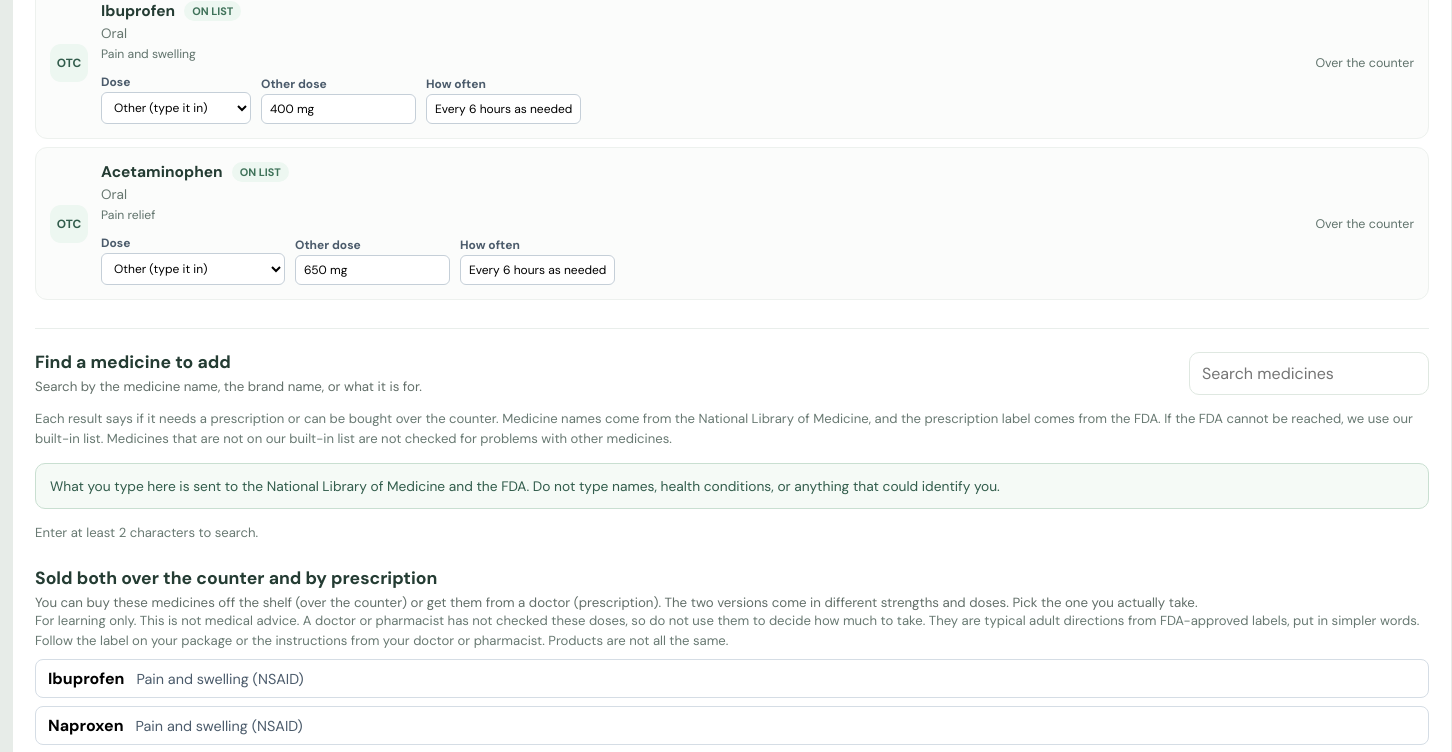
Test: RxNorm search results are each marked Prescription or Over the counter from FDA labeling
(page scrolled)
Type "zolpidem" into the search field named "Search all medicines" at (1309, 374), box [1189, 352, 1429, 395]
(page scrolled)
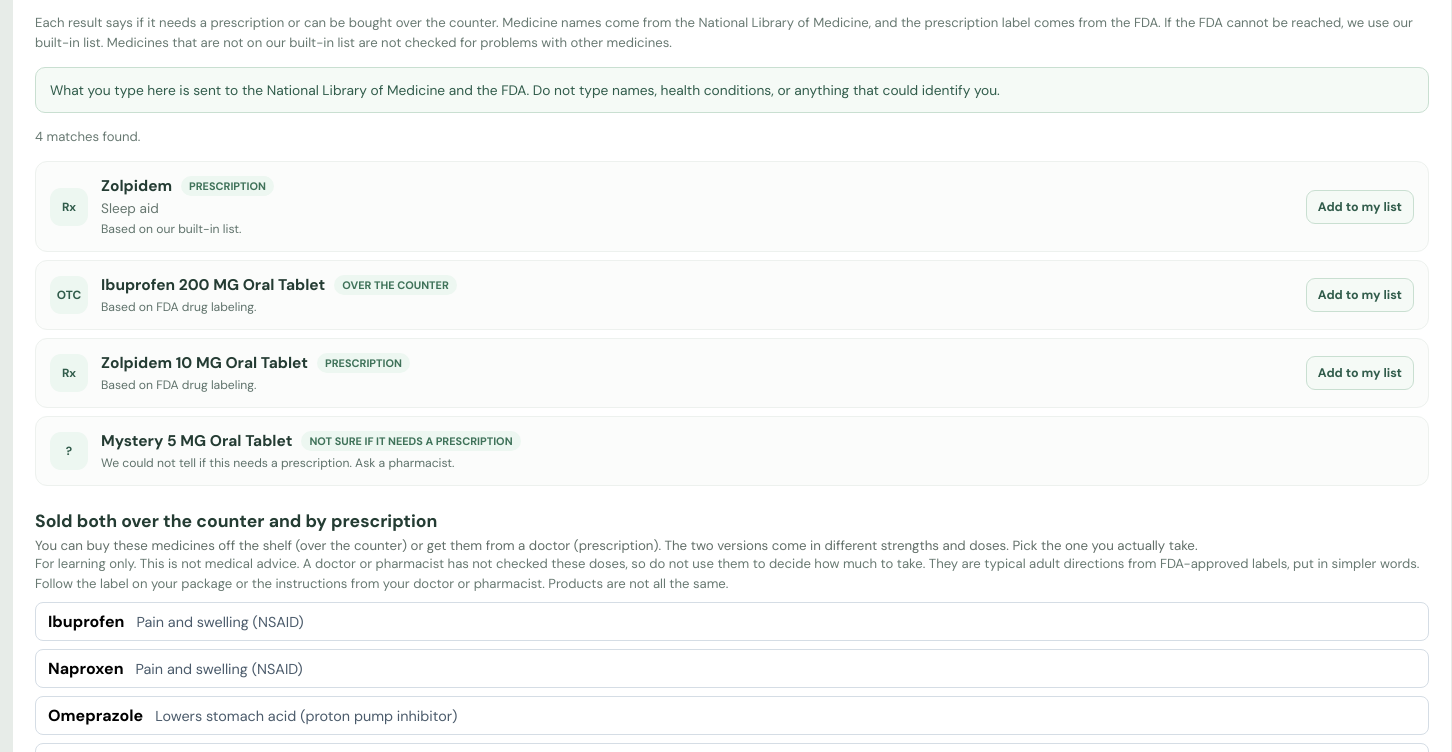
Now the text "Zolpidem 10 MG Oral Tablet" is shown, box [101, 353, 308, 373]
Now the 1st text "Prescription" is shown, box [181, 176, 274, 196]
Now the text "Over the counter" is shown, box [334, 275, 457, 295]
Click the button with aria-label "Add Zolpidem 10 MG Oral Tablet" at (1360, 373), box [1306, 356, 1414, 390]
(page scrolled)
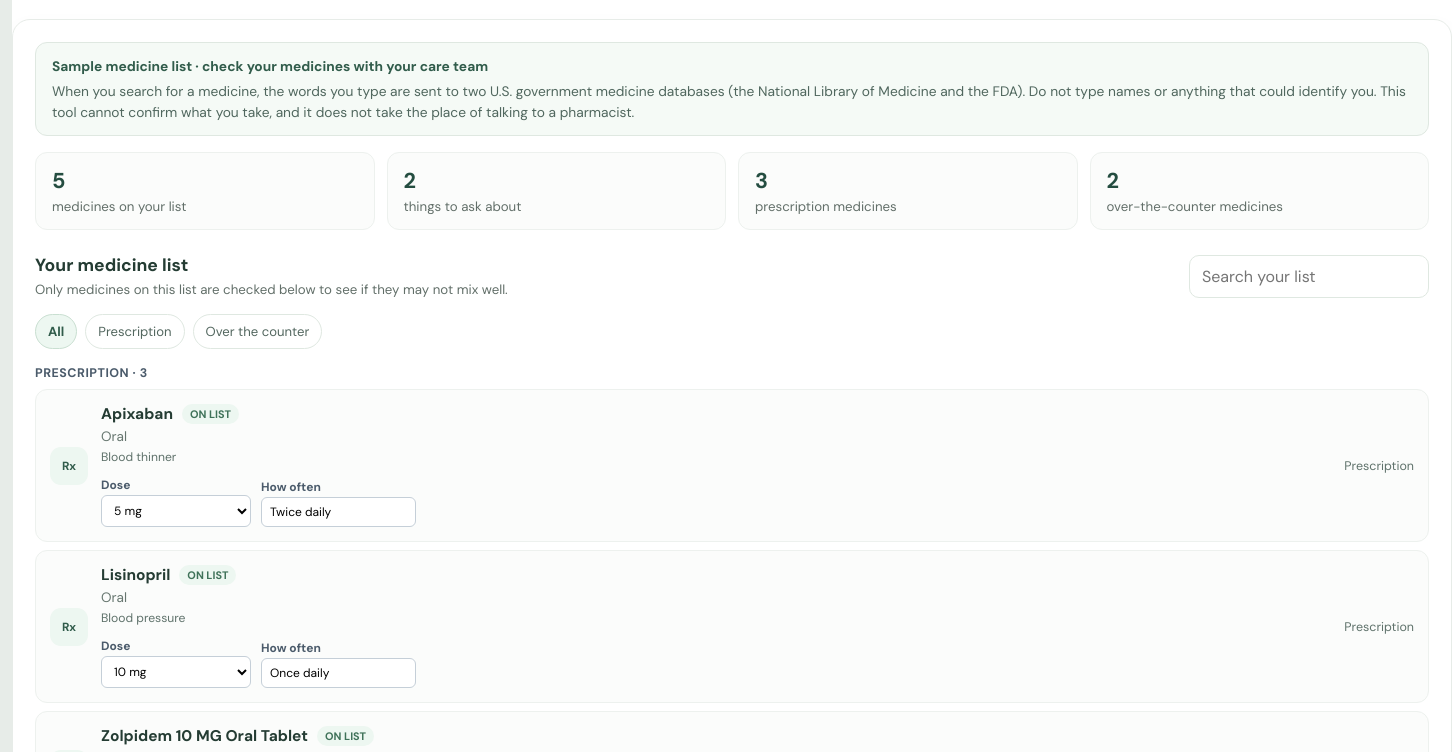
Now the text "Zolpidem 10 MG Oral Tablet" is shown, box [101, 726, 308, 746]
Now the list item "Prescription · 3" is shown, box [35, 366, 148, 382]
